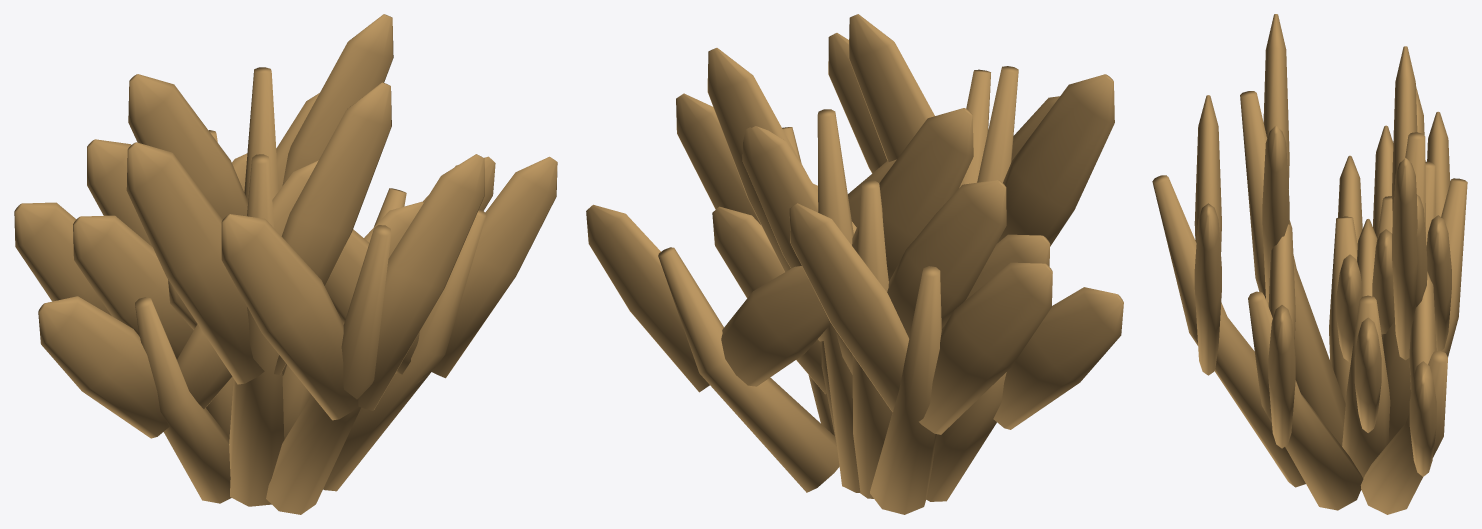
File: elkhorn-coral.glb
3 renders of one model, left to right at view 1: azimuth 30°, elevation 25°; view 2: azimuth 150°, elevation 25°; view 3: azimuth 270°, elevation 25°, orthographic. The views are drawn at different scales.
Visible parts, largest first — view 1: elkhorn-coral; view 2: elkhorn-coral; view 3: elkhorn-coral.
Part boxes in pixels (bbox=[...]): elkhorn-coral: bbox=[14, 14, 557, 514]; elkhorn-coral: bbox=[586, 14, 1123, 514]; elkhorn-coral: bbox=[1152, 14, 1467, 514].
Size of the model in its own units: 1.13 by 0.9218 by 0.6685.
